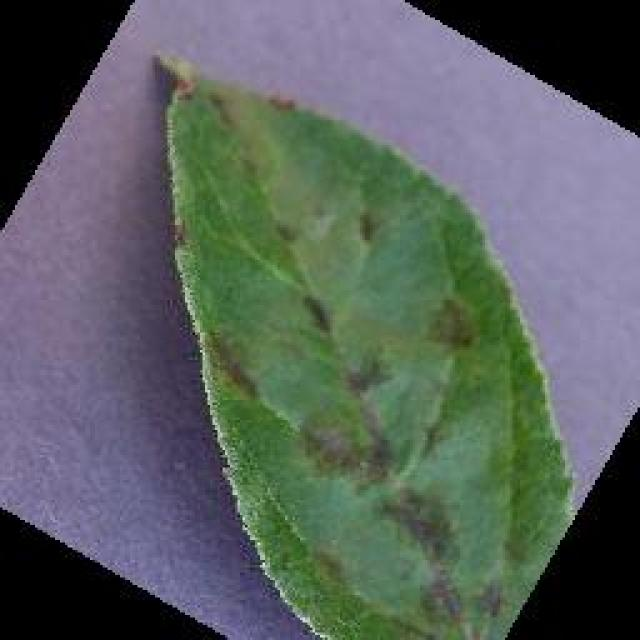apple scab disease: (150, 50, 578, 638)
